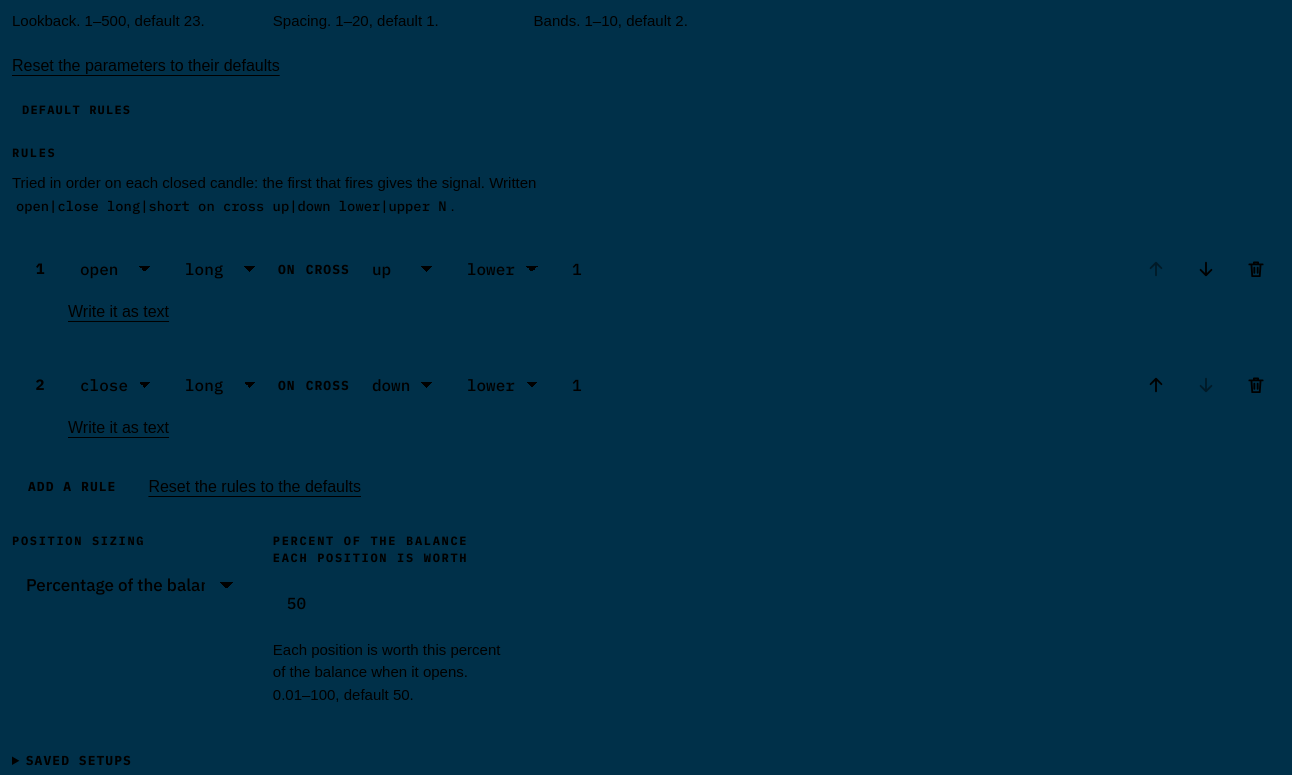
Scenario: the position sizing › offers the bot’s methods, each with its own value and range, and keeps it across strategies
Later steps or results of the test are not shown.
(page scrolled)
expect the number field labelled "Percent of the balance each position is worth" holds "50": met, box [273,577,510,629]
Select "Kelly criterion" in the dropdown labelled "Position sizing" at (130, 586), box [12,560,249,612]
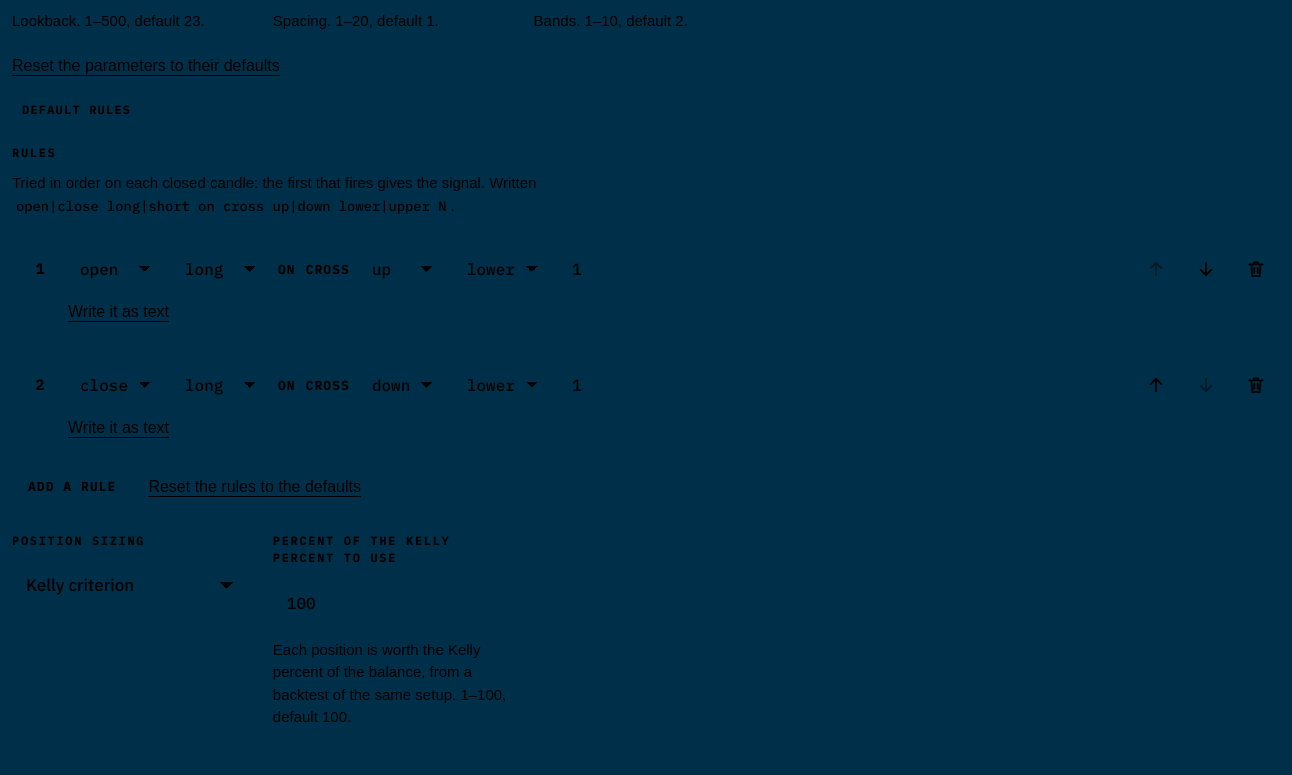
expect the number field labelled "Percent of the Kelly percent to use" holds "100": met, box [273,577,510,629]
